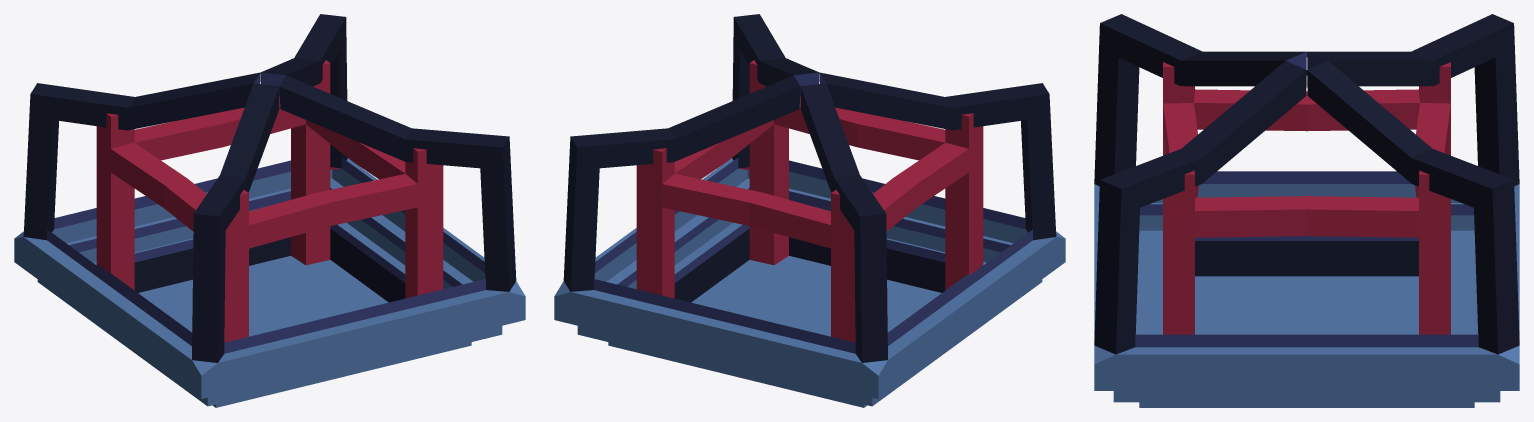
The model's file is stand-col.glb.
3 views of the same model, side by side, from view 1: azimuth 30°, elevation 25°; view 2: azimuth 150°, elevation 25°; view 3: azimuth 270°, elevation 25° (orthographic). The views are drawn at different scales.
Parts seen in each view (by area): view 1: Stand-col; view 2: Stand-col; view 3: Stand-col.
Boxes of the visible parts, x1,y1,x2,y2 form: Stand-col: (14,14,525,407); Stand-col: (554,14,1065,407); Stand-col: (1094,14,1519,407).
Bounding box in the file's own units: 35.57 × 25.5 × 35.57.
1 material, 1 textured.
